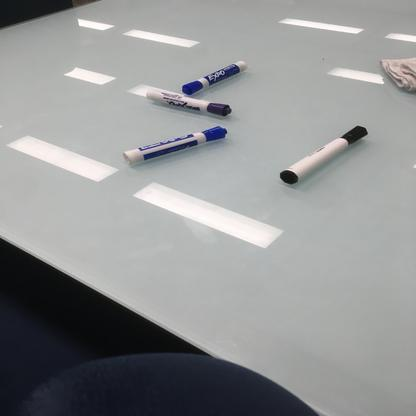expo_marker: (271, 123, 374, 187), (120, 122, 232, 170), (144, 86, 234, 122), (180, 59, 250, 102)
